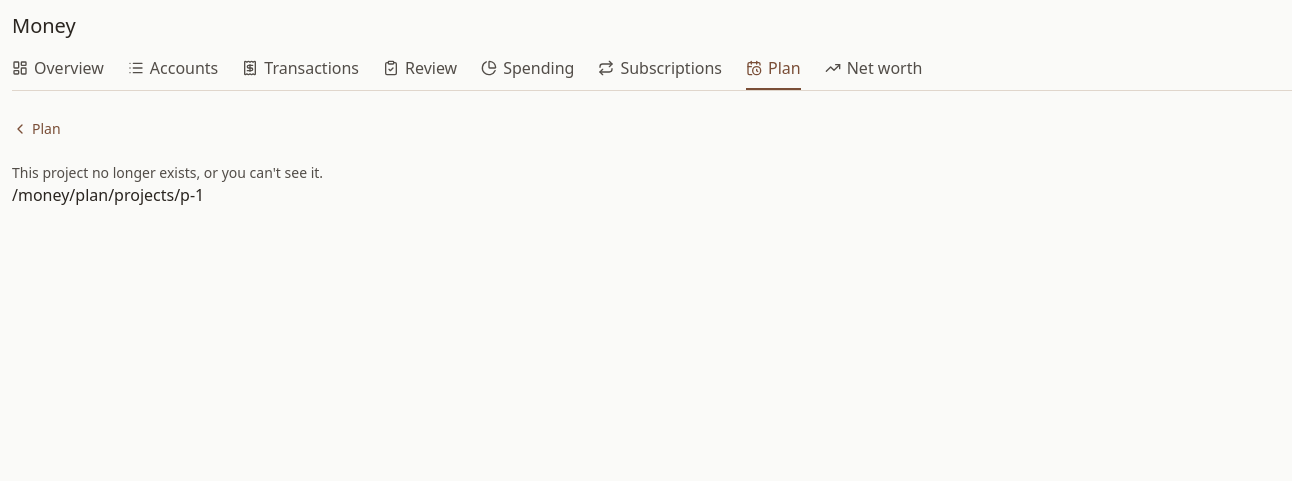
Test case: opens project detail by URL, and a project nobody can see says so with a way back
expect the text "This project no longer exists, or you can't see it." is shown: met, box [12, 163, 323, 182]
Click the button "Plan": (36, 129) [12, 107, 61, 151]
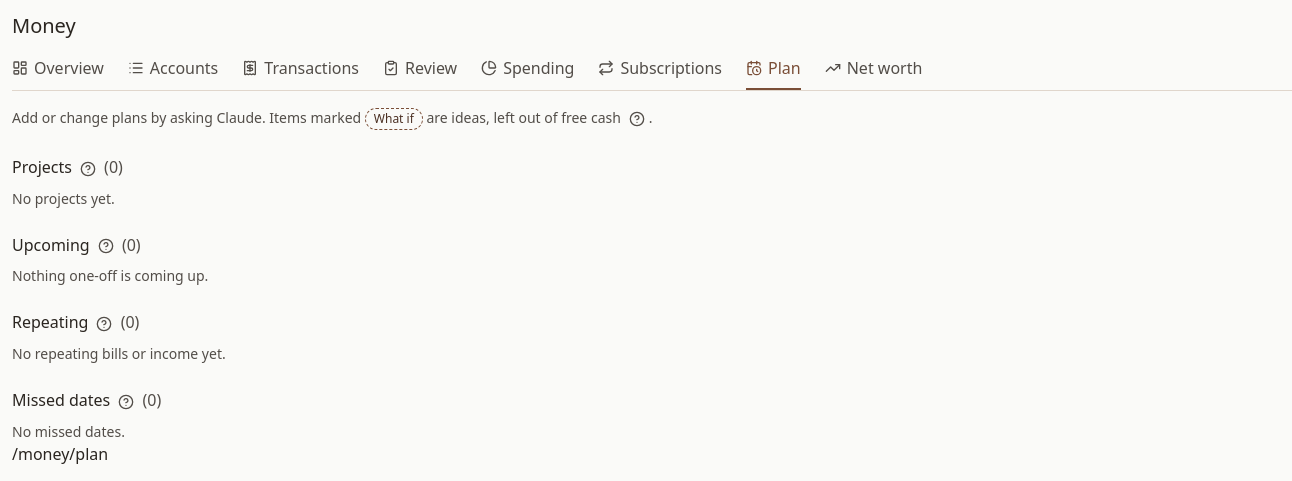
expect the text with test id "where" reads "/money/plan": met, box [12, 443, 108, 465]
